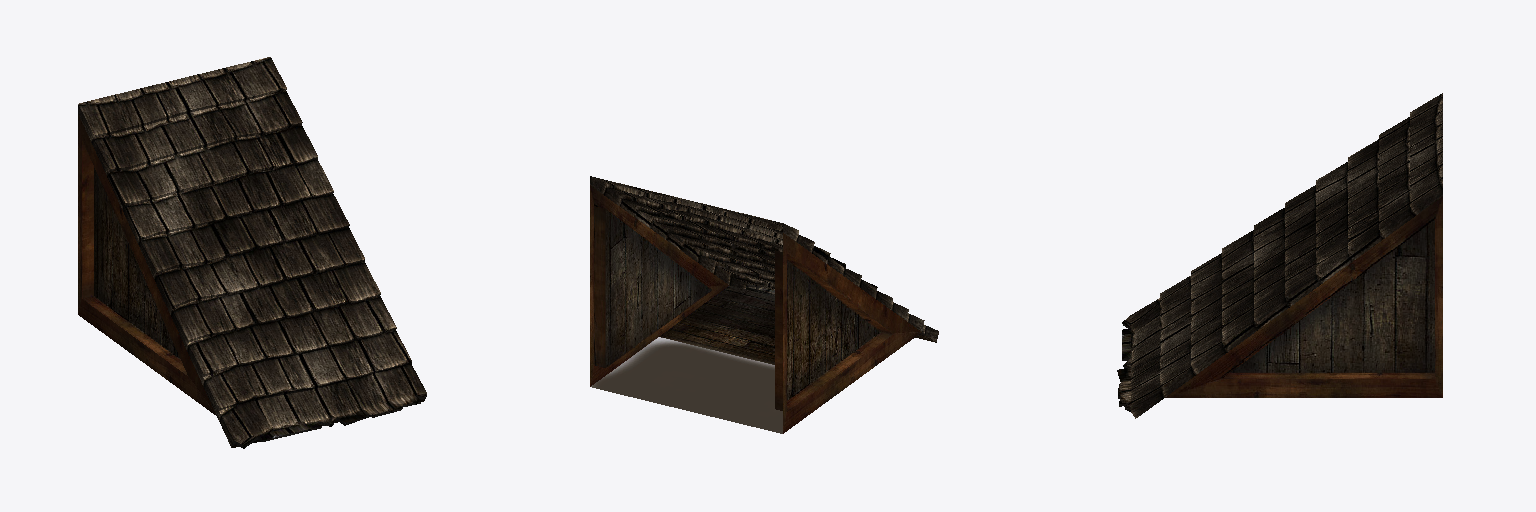
3 views of the same model, side by side, from view 1: azimuth 30°, elevation 25°; view 2: azimuth 150°, elevation 25°; view 3: azimuth 270°, elevation 25° (orthographic).
Parts seen in each view (by area): view 1: Roof001_M_SC017; view 2: Roof001_M_SC017; view 3: Roof001_M_SC017.
Part boxes in pixels (x1,y1,x2,y2): Roof001_M_SC017: (78,57,426,448); Roof001_M_SC017: (590,176,938,433); Roof001_M_SC017: (1117,93,1442,418).
Size of the model in its own units: 128 by 147 by 188.
Materials: 1 (1 with a texture image).